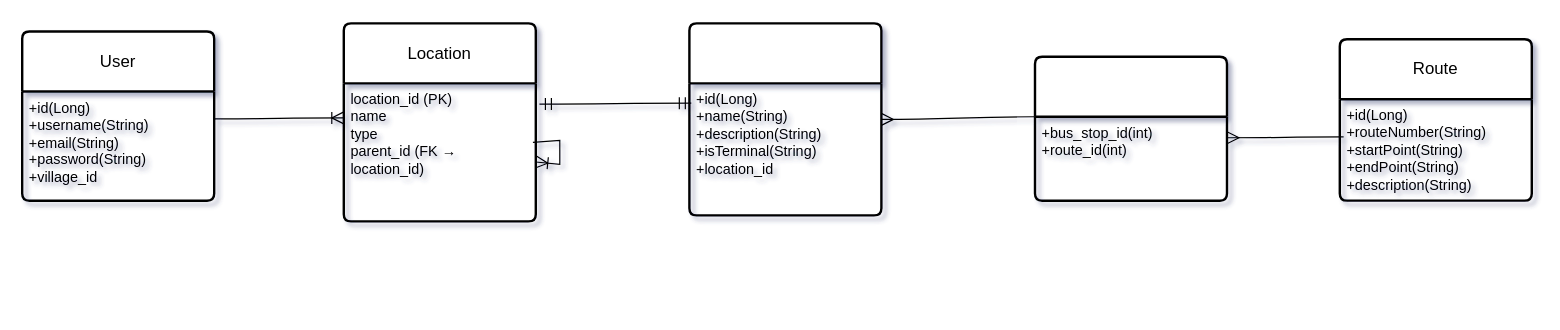
Some shapes in this 1560 by 330 pixel diagram are drawn without their labels. Each missing label, with the box of its shape:
bus_stop_route: (1033, 55, 1228, 201)
BusStop: (688, 22, 882, 216)
